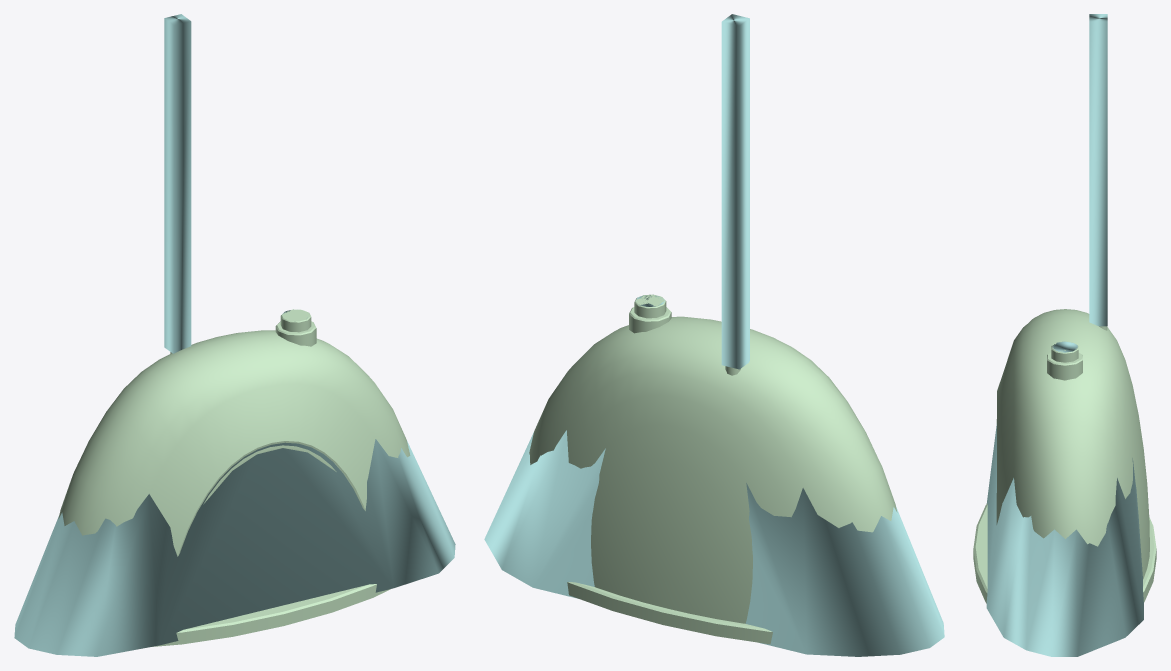
Rendered from radioFBX.fbx.
3 views of the same model, side by side, from view 1: azimuth 30°, elevation 25°; view 2: azimuth 150°, elevation 25°; view 3: azimuth 270°, elevation 25° (orthographic). The views are drawn at different scales.
Parts seen in each view (by area): view 1: radio_reference_physics, radio_reference; view 2: radio_reference, radio_reference_physics; view 3: radio_reference, radio_reference_physics.
Part boxes in pixels (<box>): radio_reference_physics: <box>14,14,455,656</box>; radio_reference: <box>58,309,410,646</box>; radio_reference: <box>529,294,897,644</box>; radio_reference_physics: <box>484,14,944,656</box>; radio_reference: <box>973,309,1156,603</box>; radio_reference_physics: <box>986,14,1143,656</box>.
Bounding box in the file's own units: 2442 × 3101 × 980.
